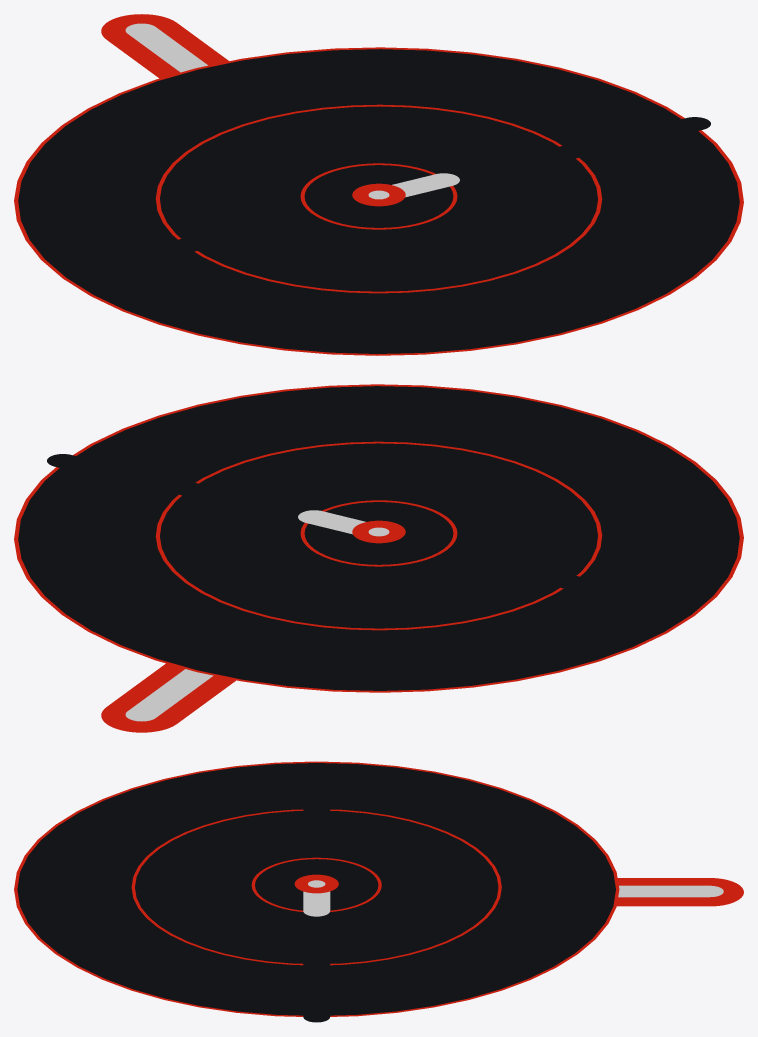
Rendered from 2Level.fbx.
3 renders of one model, top to bottom at view 1: azimuth 30°, elevation 25°; view 2: azimuth 150°, elevation 25°; view 3: azimuth 270°, elevation 25°, orthographic. The views are drawn at different scales.
Parts seen in each view (by area): view 1: Ring3, Ring2, Ring1, Bg; view 2: Ring3, Ring2, Ring1, Bg; view 3: Ring3, Ring2, Ring1, Bg.
Part boxes in pixels (<box>): Ring3: <box>14,47,743,355</box>; Ring2: <box>155,104,602,293</box>; Ring1: <box>300,163,459,229</box>; Bg: <box>101,14,228,78</box>; Ring3: <box>14,384,743,692</box>; Ring2: <box>155,441,602,630</box>; Ring1: <box>298,500,457,566</box>; Bg: <box>101,663,235,732</box>; Ring3: <box>14,761,619,1022</box>; Ring2: <box>131,803,501,969</box>; Ring1: <box>251,857,381,916</box>; Bg: <box>617,878,743,906</box>.
Bounding box in the file's own units: 2.04 × 0.03 × 2.41.
